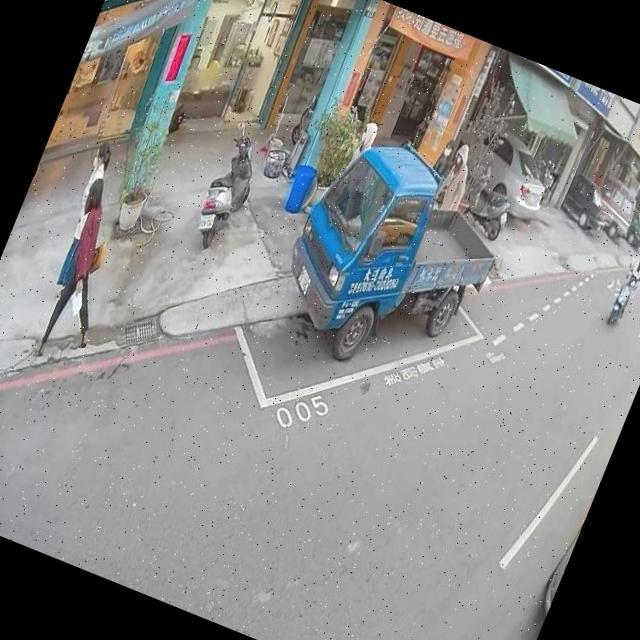person: (21, 160, 154, 370), (34, 134, 140, 312), (428, 138, 482, 222), (343, 110, 384, 171), (424, 133, 463, 188), (621, 252, 640, 289)
